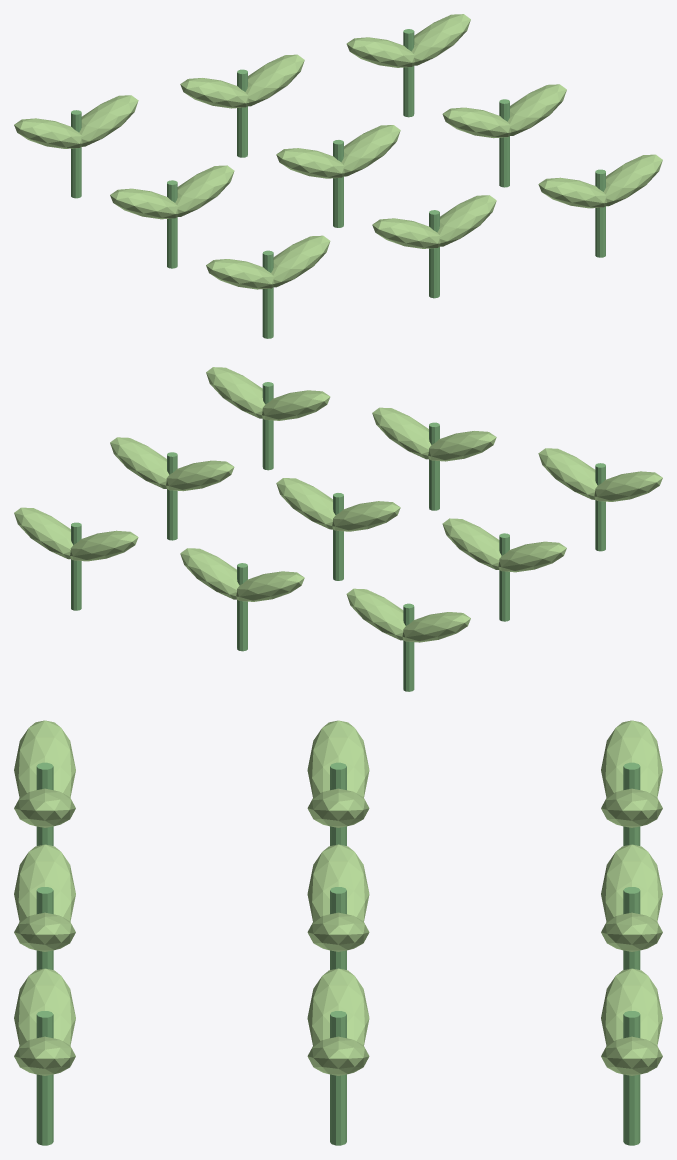
The model's file is sprout.glb.
3 views of the same model, one above another, from view 1: azimuth 30°, elevation 25°; view 2: azimuth 150°, elevation 25°; view 3: azimuth 270°, elevation 25° (orthographic). The views are drawn at different scales.
Parts seen in each view (by area): view 1: sprout; view 2: sprout; view 3: sprout.
Part boxes in pixels (bbox=[...]): sprout: bbox=[14, 14, 662, 338]; sprout: bbox=[14, 367, 662, 691]; sprout: bbox=[14, 720, 662, 1145].
Size of the model in its own units: 1.41 by 0.2617 by 1.15.
